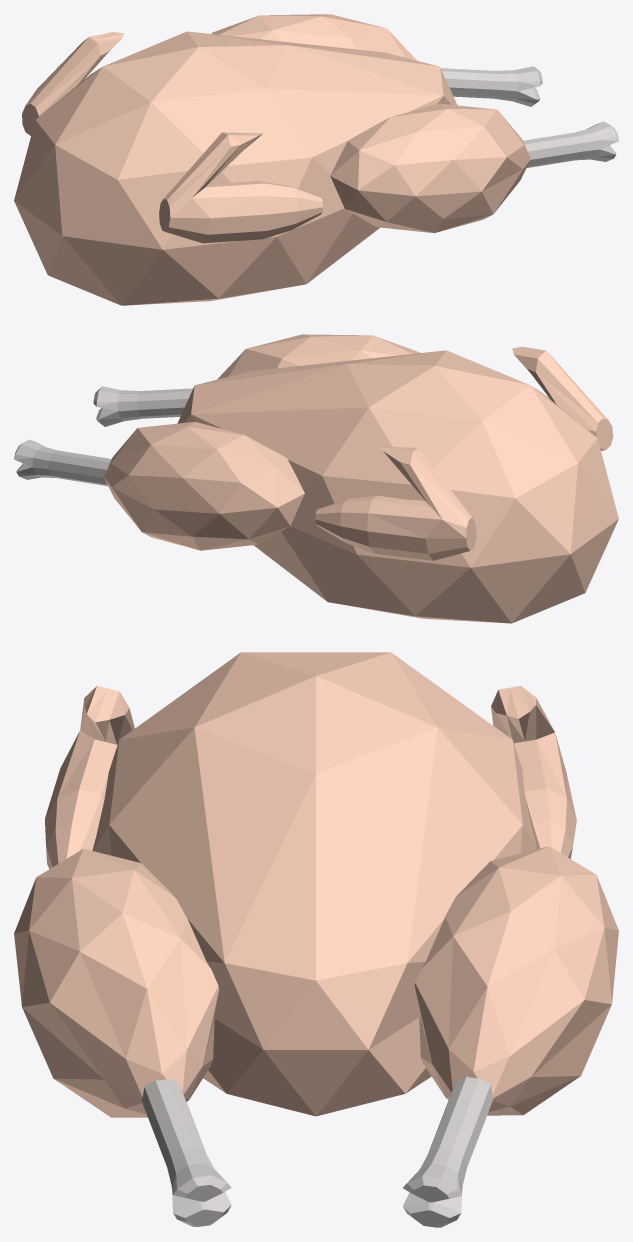
The model's file is WholeBirdRaw.fbx.
3 views of the same model, one above another, from view 1: azimuth 30°, elevation 25°; view 2: azimuth 150°, elevation 25°; view 3: azimuth 270°, elevation 25° (orthographic). The views are drawn at different scales.
Parts seen in each view (by area): view 1: Icosphere, Icosphere.002, Cylinder.003, Icosphere.001, Cylinder, Cylinder.002, Cylinder.001; view 2: Icosphere, Icosphere.001, Cylinder, Icosphere.002, Cylinder.003, Cylinder.001, Cylinder.002; view 3: Icosphere, Icosphere.001, Icosphere.002, Cylinder.003, Cylinder, Cylinder.002, Cylinder.001.
Part boxes in pixels (x1=…): Icosphere: x1=14, y1=31, x2=457, y2=305; Icosphere.002: x1=330, y1=103, x2=530, y2=233; Cylinder.003: x1=159, y1=132, x2=323, y2=243; Icosphere.001: x1=212, y1=14, x2=416, y2=60; Cylinder: x1=22, y1=32, x2=124, y2=135; Cylinder.002: x1=441, y1=66, x2=542, y2=106; Cylinder.001: x1=523, y1=121, x2=618, y2=167; Icosphere: x1=177, y1=350, x2=618, y2=623; Icosphere.001: x1=104, y1=421, x2=304, y2=550; Cylinder: x1=315, y1=447, x2=476, y2=560; Icosphere.002: x1=217, y1=334, x2=419, y2=379; Cylinder.003: x1=512, y1=346, x2=613, y2=450; Cylinder.001: x1=93, y1=386, x2=192, y2=426; Cylinder.002: x1=14, y1=439, x2=111, y2=486; Icosphere: x1=92, y1=652, x2=536, y2=1116; Icosphere.001: x1=414, y1=846, x2=618, y2=1115; Icosphere.002: x1=14, y1=848, x2=218, y2=1117; Cylinder.003: x1=45, y1=686, x2=134, y2=868; Cylinder: x1=491, y1=686, x2=576, y2=858; Cylinder.002: x1=403, y1=1076, x2=493, y2=1227; Cylinder.001: x1=141, y1=1078, x2=231, y2=1226.
Size of the model in its own units: 180 by 71.45 by 113.
